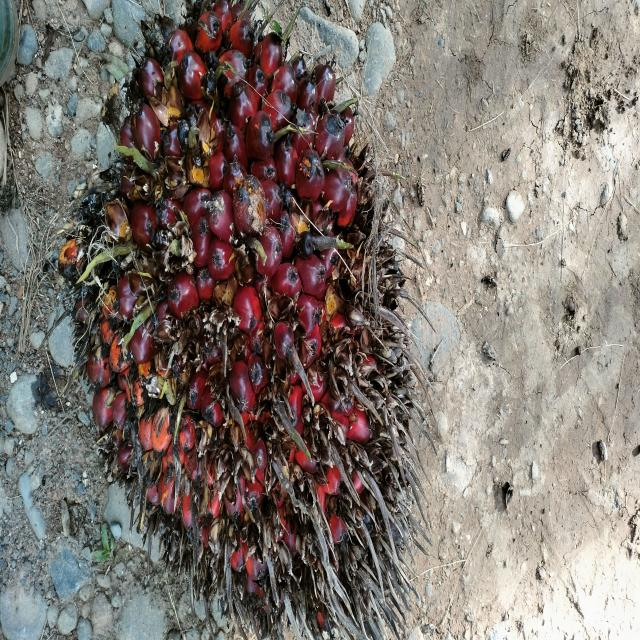fraksi 3: (59, 0, 432, 636)
